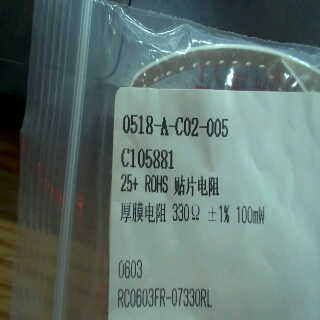330R: (169, 201, 206, 223)
